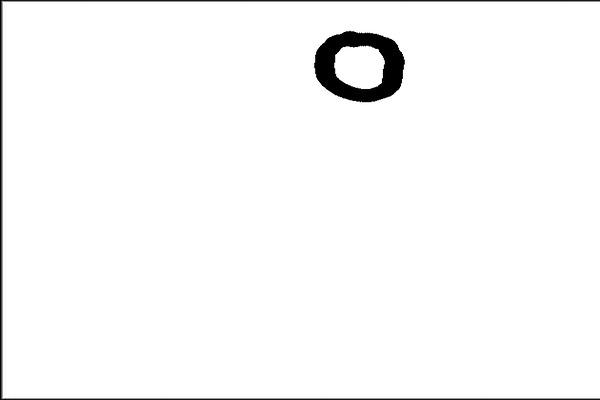O: (310, 20, 408, 114)
